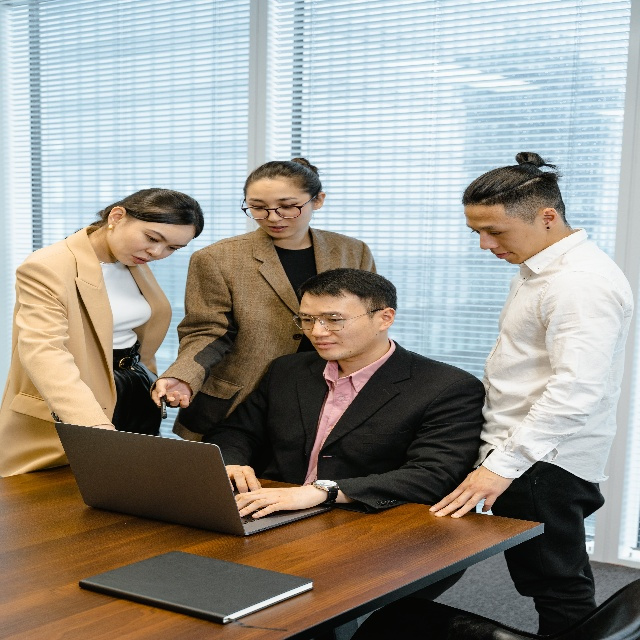Gafas: (293, 306, 383, 332), (241, 194, 316, 220)
Sin_guantes: (429, 466, 513, 519), (234, 484, 323, 519), (152, 377, 192, 408), (225, 464, 263, 495)
